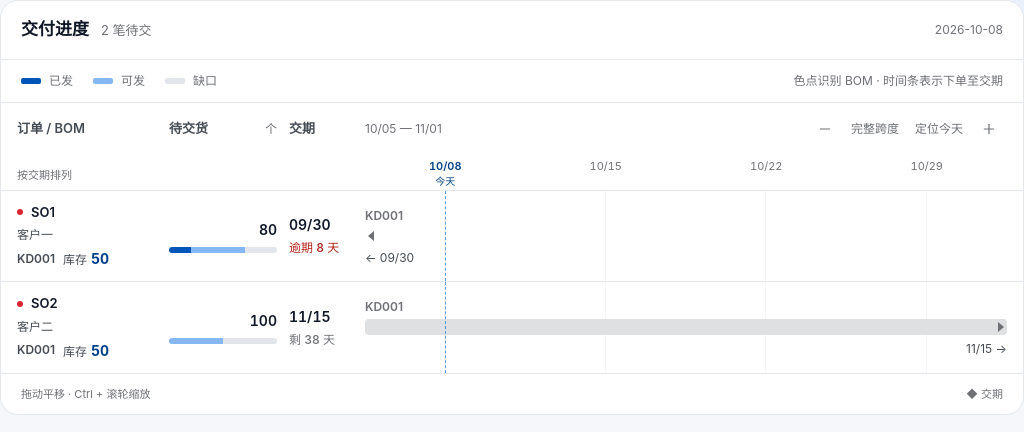
Test: 完整跨度显示早期订单与逾期交期，时间范围切换不改变共享库存分配
This screenshot has width=1024, height=432.
Expected: the text "← 09/30" is shown, [365, 249, 414, 267]
Expected: the text "11/15 →" is shown, [966, 340, 1007, 358]
Click the button "完整跨度": (875, 128) [843, 110, 907, 146]
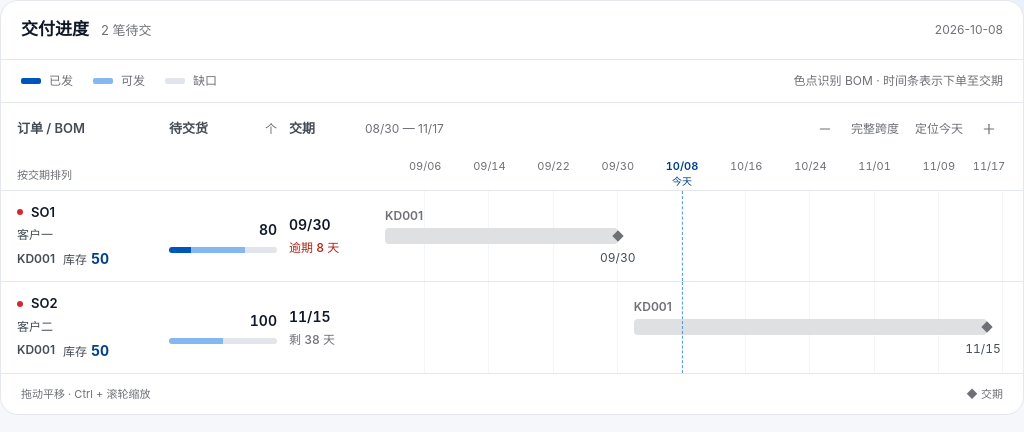
Expected: the text "08/30 — 11/17" is shown, [365, 120, 444, 138]
Expected: the text "← 09/30" is gone
Expected: the text "11/15 →" is gone
Click the button "定位今天": (939, 128) [907, 110, 971, 146]
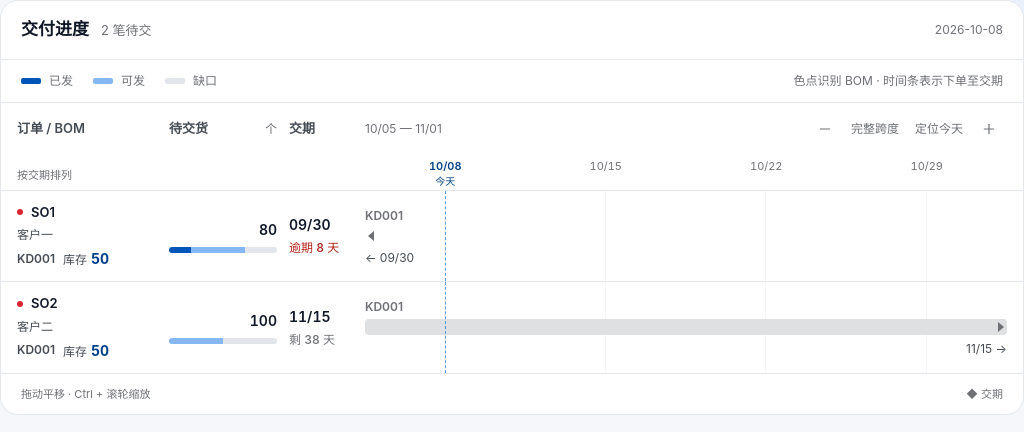
Expected: the text "10/05 — 11/01" is shown, [365, 120, 442, 138]
